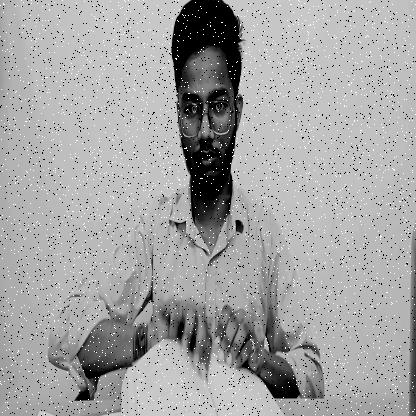Normal: (164, 4, 245, 195)
